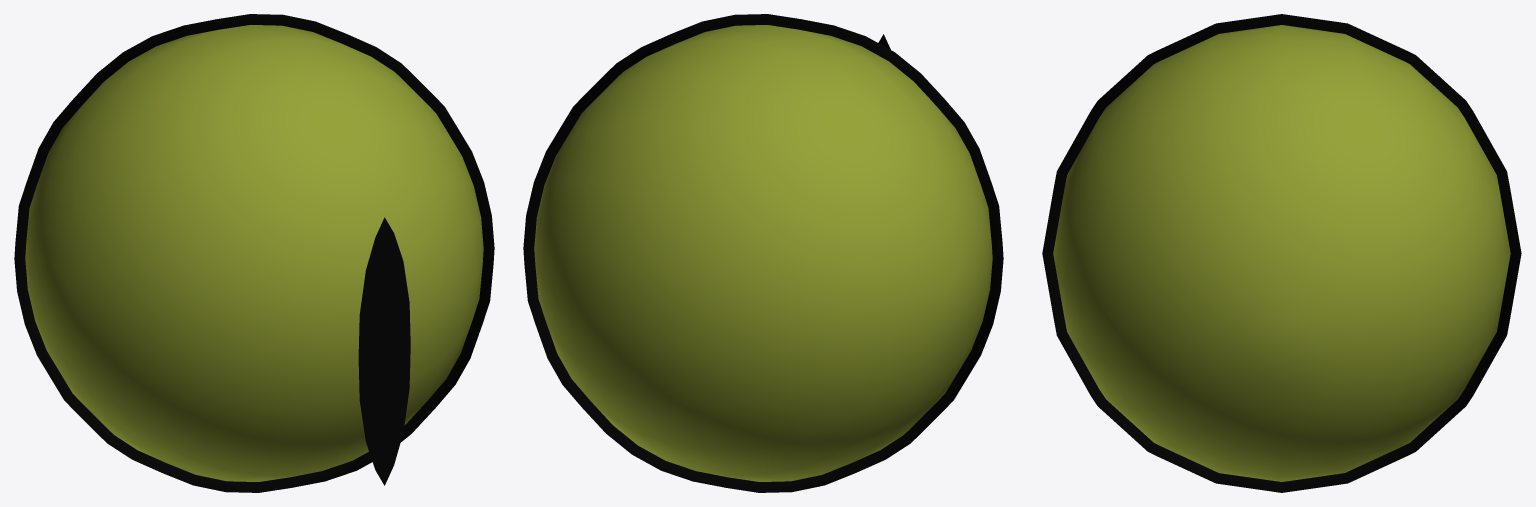
The model's file is Eye.fbx.
3 views of the same model, side by side, from view 1: azimuth 30°, elevation 25°; view 2: azimuth 150°, elevation 25°; view 3: azimuth 270°, elevation 25° (orthographic).
Parts seen in each view (by area): view 1: polySurface2, polySurface1, pPlane1; view 2: polySurface2, polySurface1; view 3: polySurface2, polySurface1.
Boxes of the visible parts, x1,y1,x2,y2 form: polySurface2: (25,25,483,481); polySurface1: (14,14,494,492); pPlane1: (358,217,410,485); polySurface2: (534,25,992,481); polySurface1: (523,14,1003,492); polySurface2: (1053,25,1510,481); polySurface1: (1042,14,1521,492).
Bounding box in the file's own units: 2.81 × 2.81 × 2.87.
